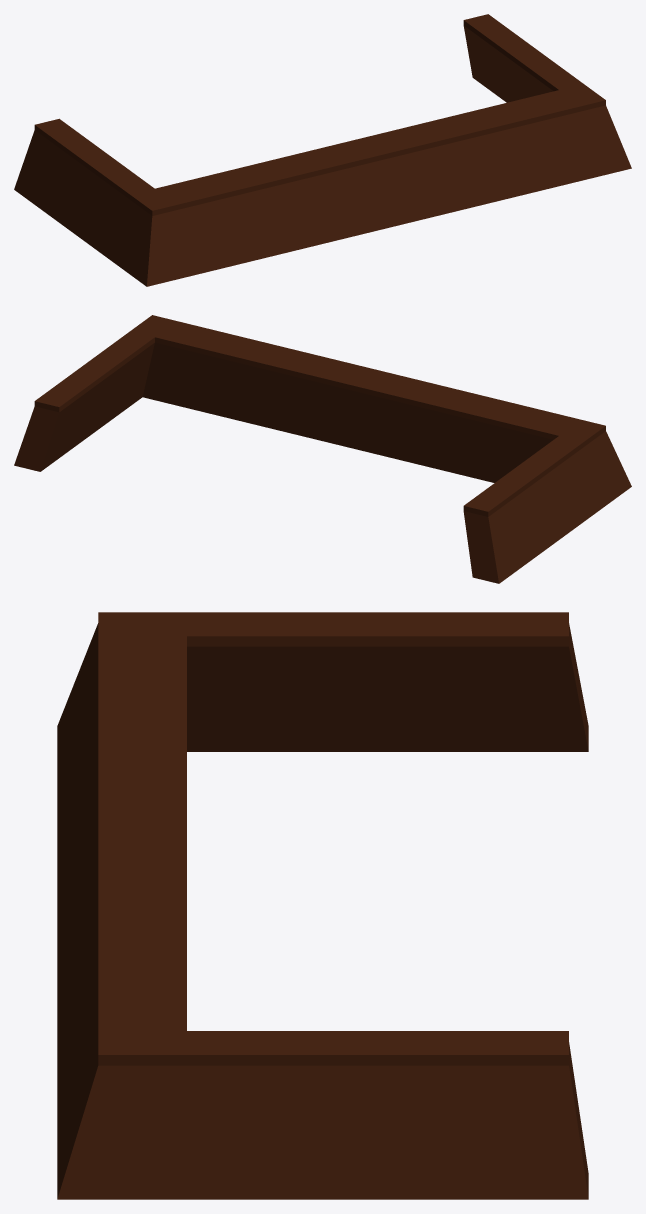
The model's file is Blat2.fbx.
The picture shows the model from 3 angles, top to bottom: view 1: azimuth 30°, elevation 25°; view 2: azimuth 150°, elevation 25°; view 3: azimuth 270°, elevation 25°; orthographic projection. The views are drawn at different scales.
Parts seen in each view (by area): view 1: Cube.005; view 2: Cube.005; view 3: Cube.005.
Boxes of the visible parts, x1,y1,x2,y2 form: Cube.005: (14,14,631,286); Cube.005: (14,315,631,583); Cube.005: (57,612,588,1199).
Size of the model in its own units: 2530 by 322 by 1200.
